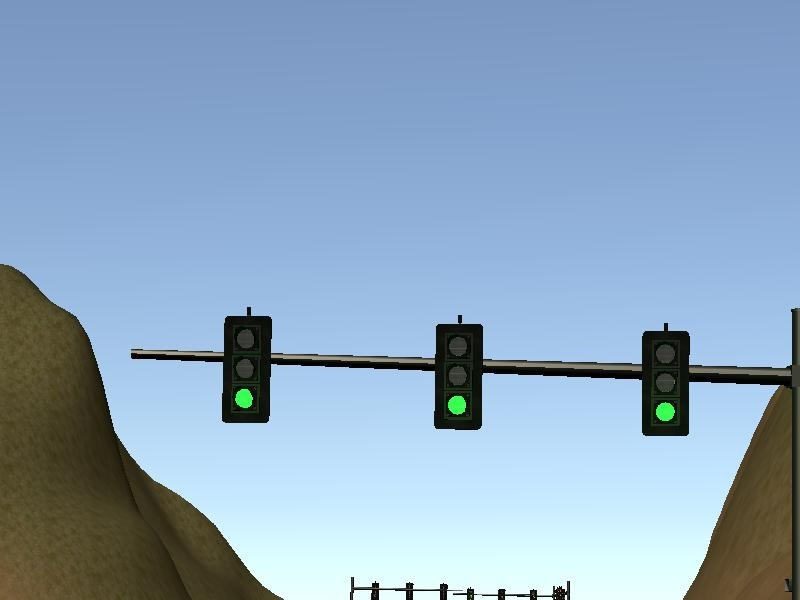green: (636, 327, 697, 449), (430, 317, 491, 434), (219, 310, 274, 430)
